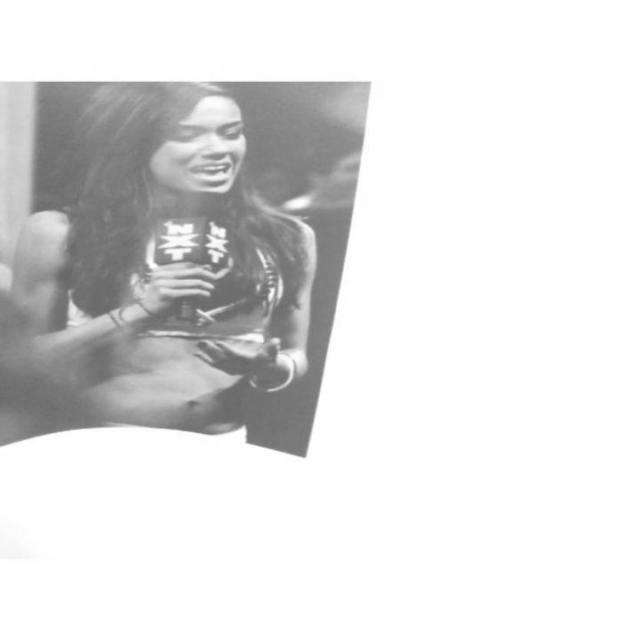fake: (0, 81, 421, 467)
